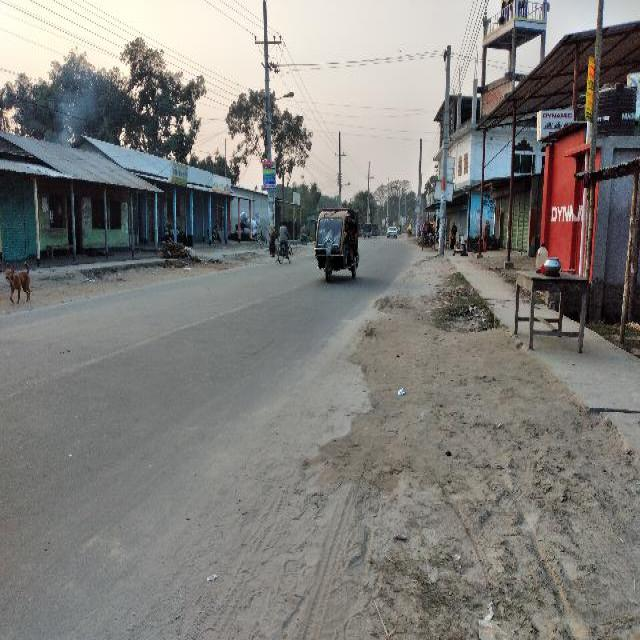bike: (277, 223, 294, 267), (161, 224, 191, 245), (207, 220, 223, 244)
vehicle: (314, 206, 360, 284), (422, 221, 437, 253), (408, 218, 424, 237), (371, 220, 379, 238), (387, 225, 398, 238), (365, 222, 372, 239), (397, 224, 403, 237)
